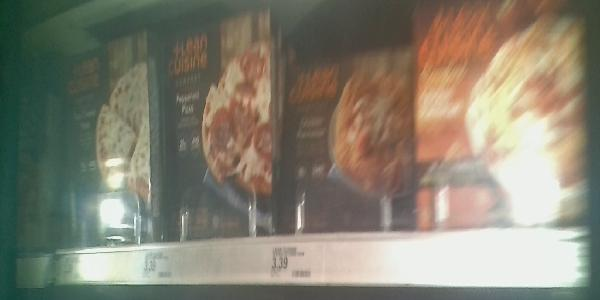pizza1: (415, 1, 600, 228), (160, 27, 278, 238), (44, 33, 151, 243), (284, 63, 417, 231)
